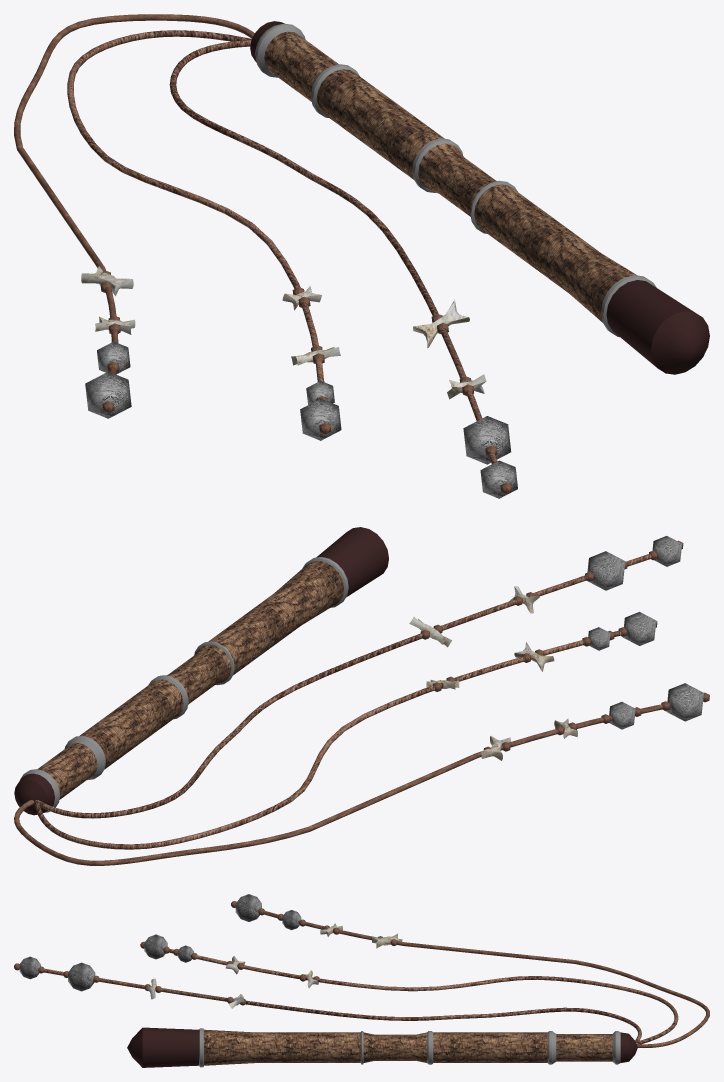
The model's file is Whip.glb.
3 views of the same model, one above another, from view 1: azimuth 30°, elevation 25°; view 2: azimuth 150°, elevation 25°; view 3: azimuth 270°, elevation 25° (orthographic). The views are drawn at different scales.
Visible parts, largest first — view 1: Handle, Line003, Line005, Line006, GeoSphere027, GeoSphere030, GeoSphere028, GeoSphere026, GeoSphere031; view 2: Handle, Line006, Line005, Line003, GeoSphere027, GeoSphere030, GeoSphere028, GeoSphere026, GeoSphere031; view 3: Handle, Line005, Line003, Line006, GeoSphere027, GeoSphere030, GeoSphere028, GeoSphere026, GeoSphere031.
Boxes of the visible parts, x1,y1,x2,y2 form: Handle: (250,21,709,374); Line003: (67,30,324,381); Line005: (169,40,497,463); Line006: (14,14,254,374); GeoSphere027: (463,416,511,464); GeoSphere030: (85,371,131,418); GeoSphere028: (300,398,341,440); GeoSphere026: (480,460,517,498); GeoSphere031: (97,341,130,374); Handle: (14,527,388,815); Line006: (14,704,670,865); Line005: (37,554,651,818); Line003: (34,630,621,849); GeoSphere027: (586,551,625,590); GeoSphere030: (666,683,703,721); GeoSphere028: (622,612,656,645); GeoSphere026: (652,536,681,566); GeoSphere031: (609,702,635,729); Handle: (127,1027,637,1067); Line005: (43,969,641,1041); Line003: (168,949,678,1044); Line006: (263,911,709,1047); GeoSphere027: (68,962,95,991); GeoSphere030: (235,894,261,921); GeoSphere028: (144,934,167,959); GeoSphere026: (19,956,40,979); GeoSphere031: (282,910,301,929).
Bounding box in the file's own units: 0.075 × 0.00821 × 0.143.
6 materials, 4 textured.
